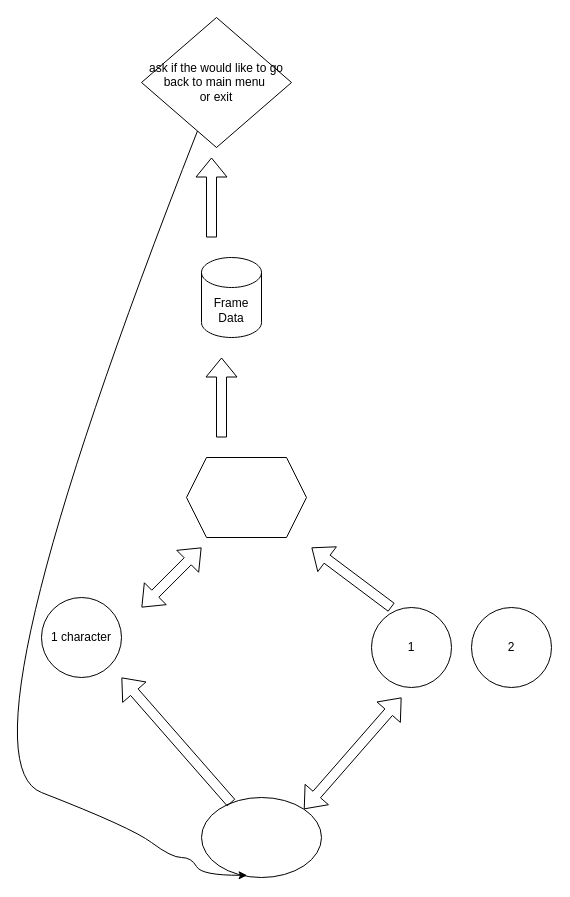
The diagram is 570 pixels wide and 897 high, and some of its shapes have lost their labels. The centre of each missing label's shape, as x and y in pixels:
"have a menu where the user can select from different ways to use the frame data" goes at point 246,497.
"user chooses 1 or 2 characters" goes at point 261,837.
